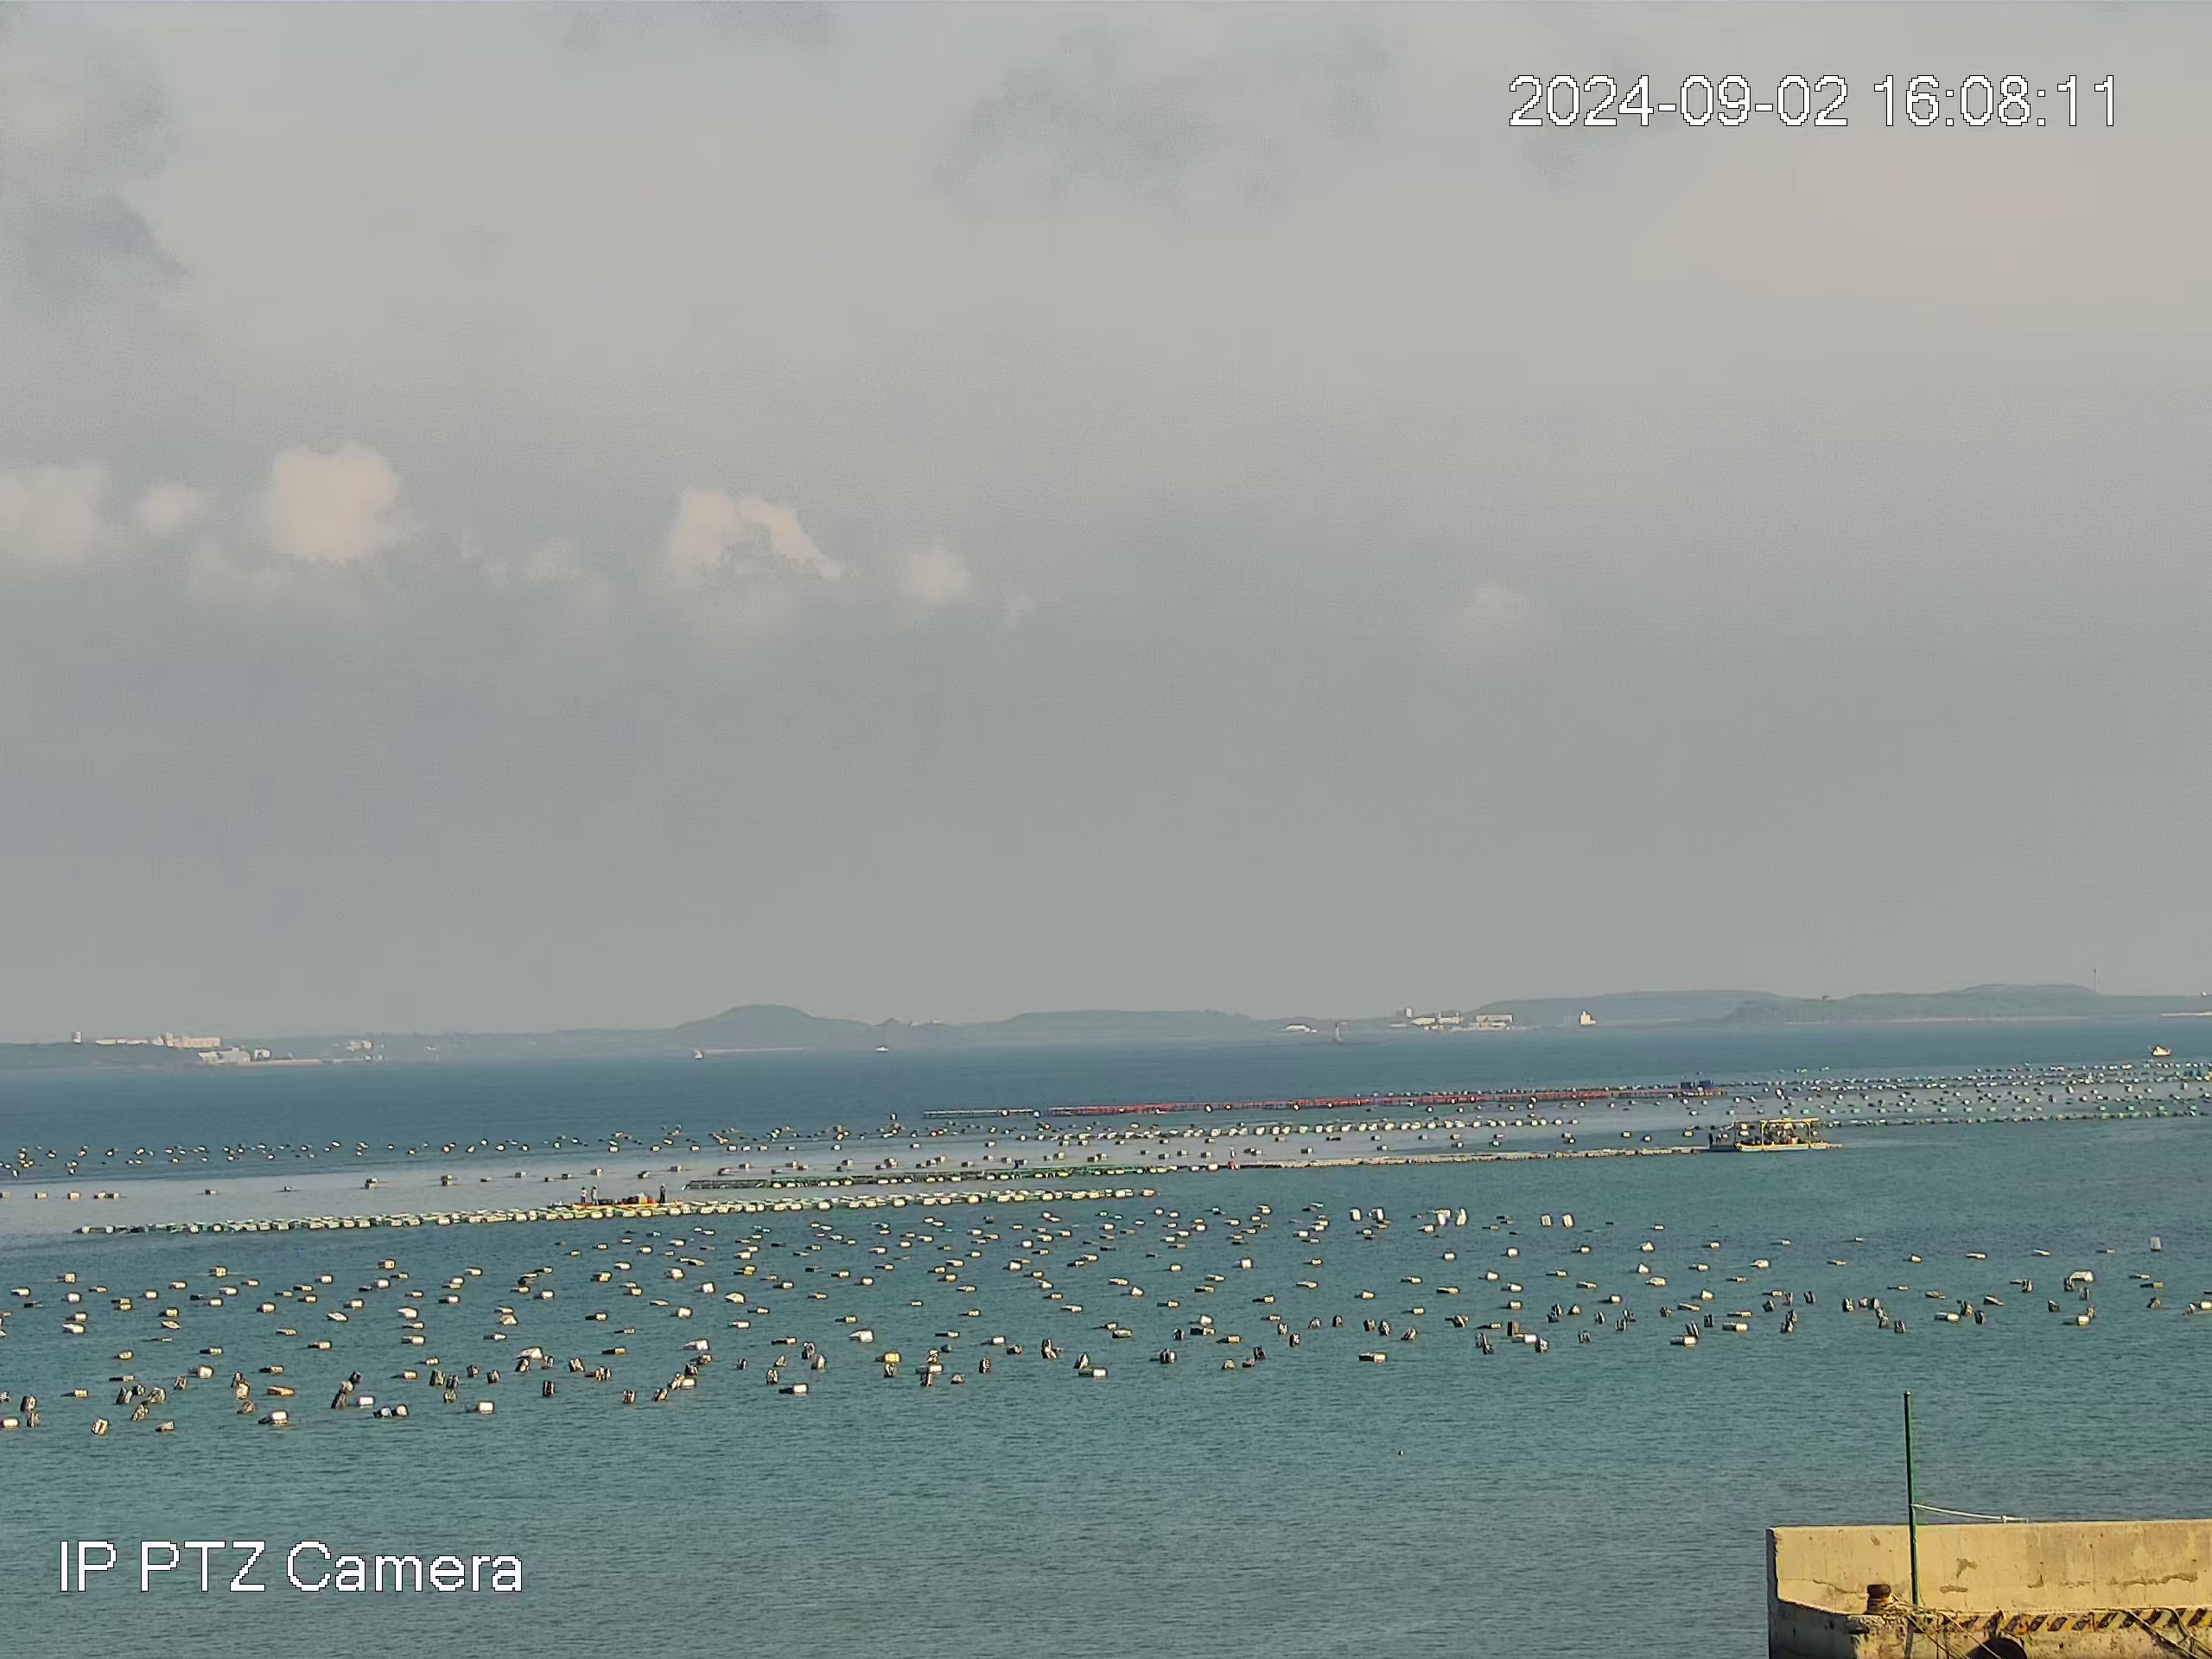boat: (1733, 1117, 1829, 1152), (570, 1185, 658, 1209), (2149, 1044, 2174, 1058)
